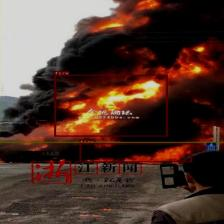fire: (54, 75, 167, 136), (79, 143, 192, 162)
smoke: (0, 0, 224, 142)
